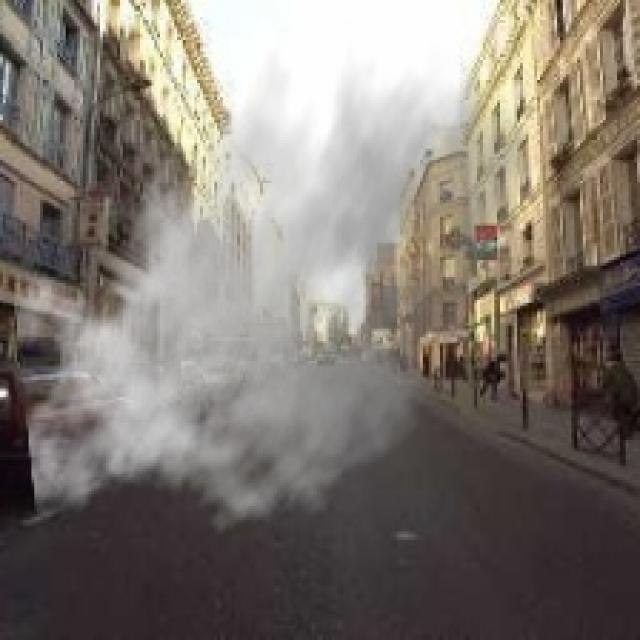Smoke: (12, 14, 534, 552)
